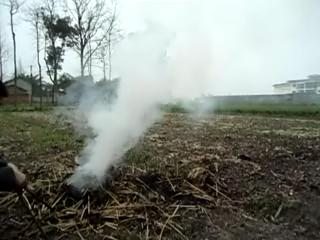yanwu: (65, 19, 211, 190)
